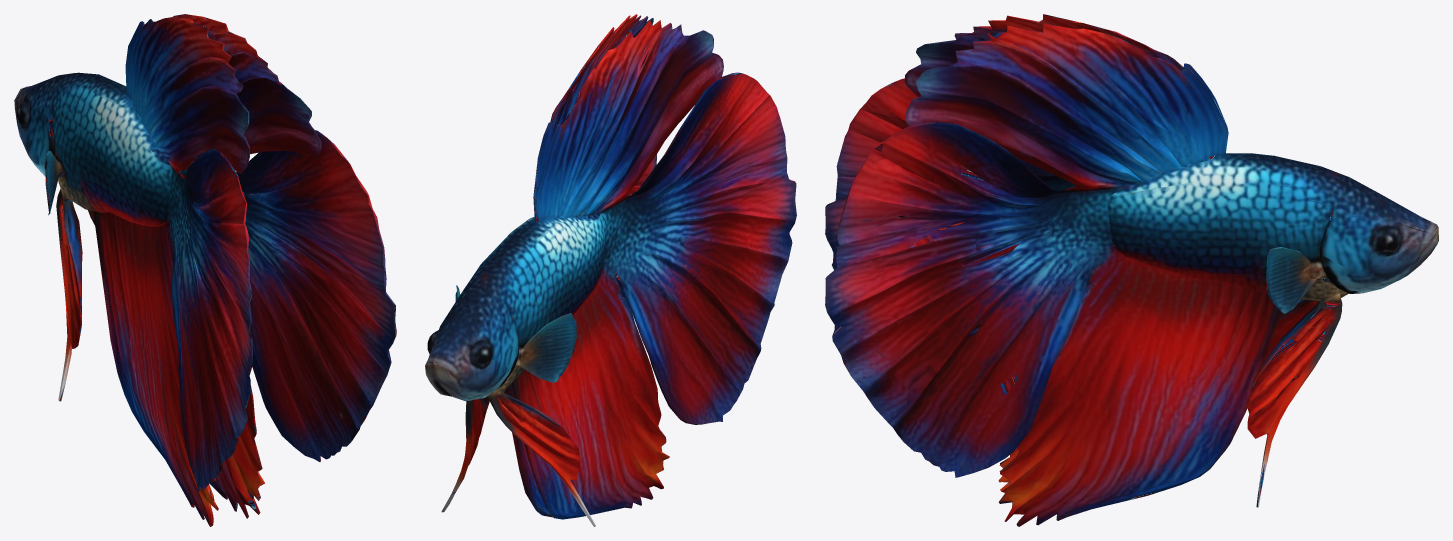
The model's file is beta3d.glb.
3 views of the same model, side by side, from view 1: azimuth 30°, elevation 25°; view 2: azimuth 150°, elevation 25°; view 3: azimuth 270°, elevation 25° (orthographic). The views are drawn at different scales.
Visible parts, largest first — view 1: prisma-m0; view 2: prisma-m0; view 3: prisma-m0.
Part boxes in pixels (left/top/right/bottom): prisma-m0: left=14, top=14, right=396, bottom=526; prisma-m0: left=425, top=14, right=796, bottom=526; prisma-m0: left=825, top=14, right=1438, bottom=526.
Bounding box in the file's own units: 0.2972 × 0.8991 × 1.
1 material, 1 textured.
